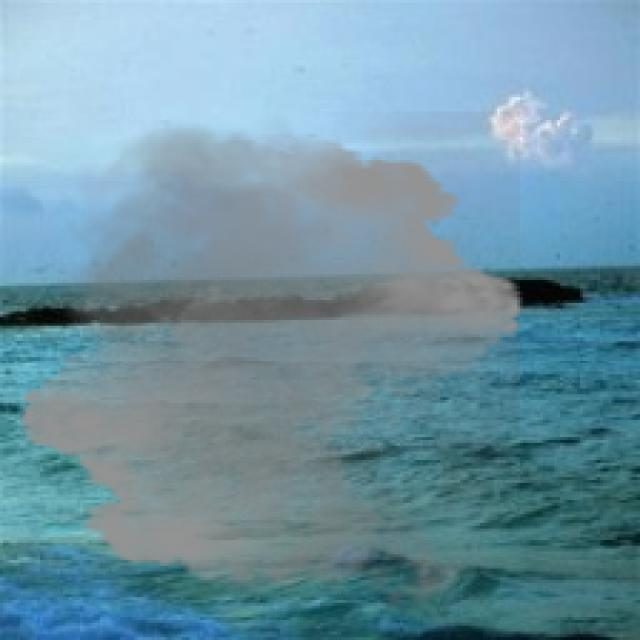smoke: (3, 111, 540, 626)
